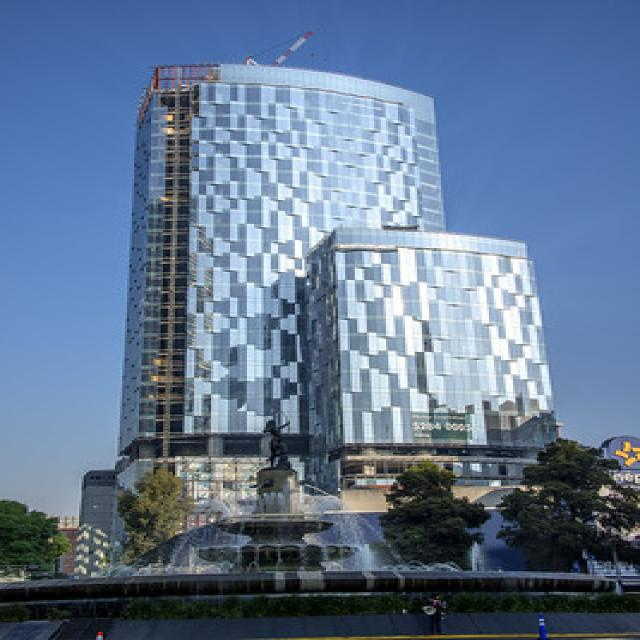Normal_building: (115, 54, 463, 534), (300, 223, 566, 529)
